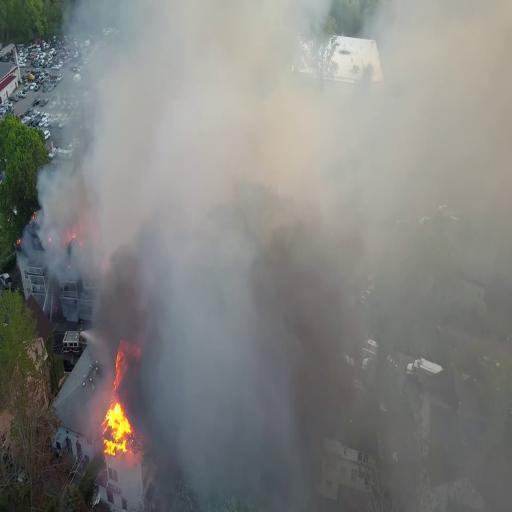fire: (96, 364, 132, 461)
smoke: (110, 93, 350, 198), (99, 150, 164, 356)
